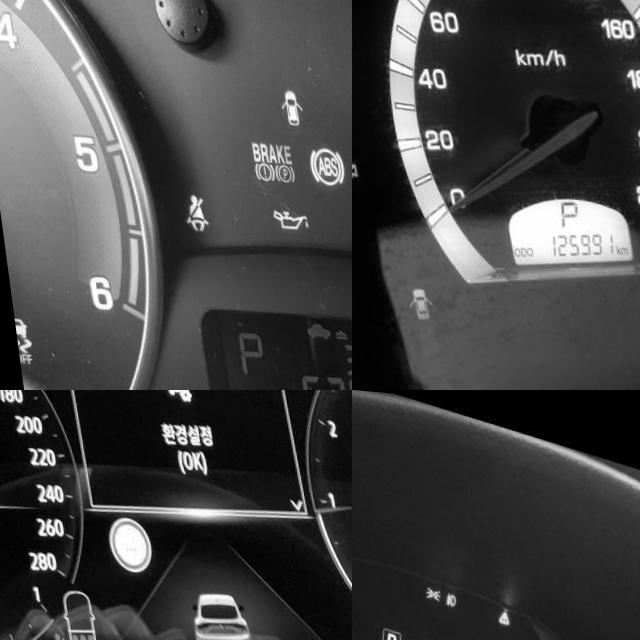Central Warning lamp: (489, 599, 506, 617)
Doors: (390, 278, 421, 315), (274, 82, 299, 121)
FrontFogLight: (437, 583, 452, 600)
SideLamp: (417, 577, 436, 594)
